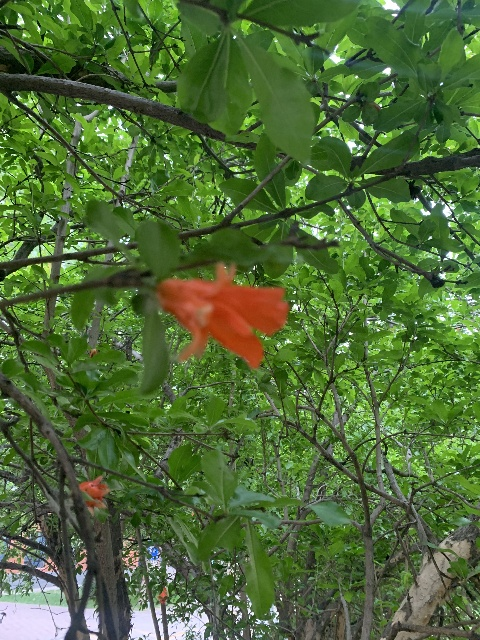flower: (156, 261, 290, 368), (78, 474, 109, 515), (157, 586, 167, 604)
